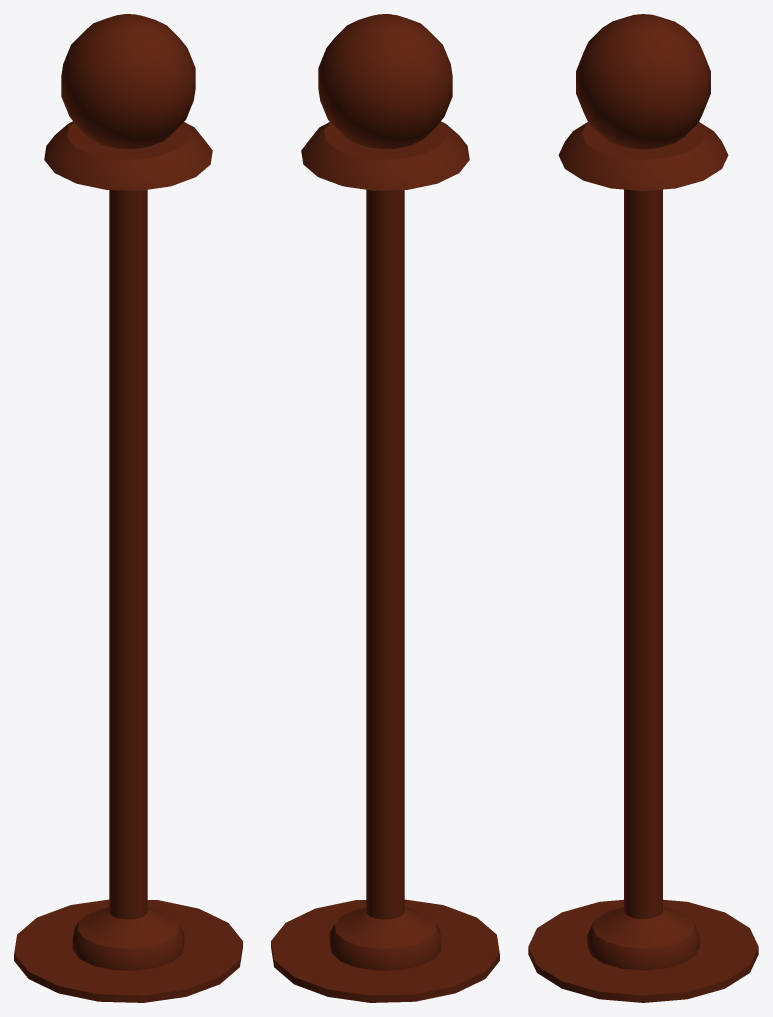
File: palo.fbx
The picture shows the model from 3 angles, left to right: view 1: azimuth 30°, elevation 25°; view 2: azimuth 150°, elevation 25°; view 3: azimuth 270°, elevation 25°; orthographic projection.
Parts seen in each view (by area): view 1: Palo; view 2: Palo; view 3: Palo.
Part boxes in pixels (box(x1,y1,x2,y2)): Palo: box(14, 14, 242, 1002); Palo: box(271, 14, 499, 1002); Palo: box(528, 14, 758, 1002).
Size of the model in its own units: 0.2968 by 1.33 by 0.2968.
